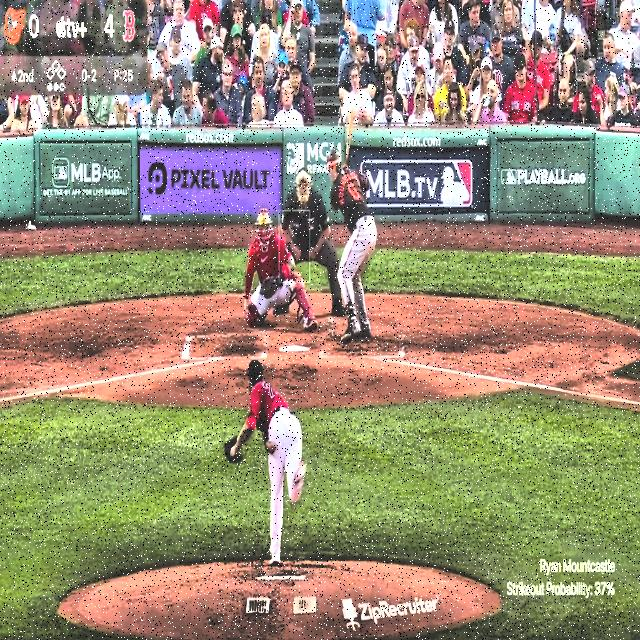baseball: (287, 278, 295, 290)
